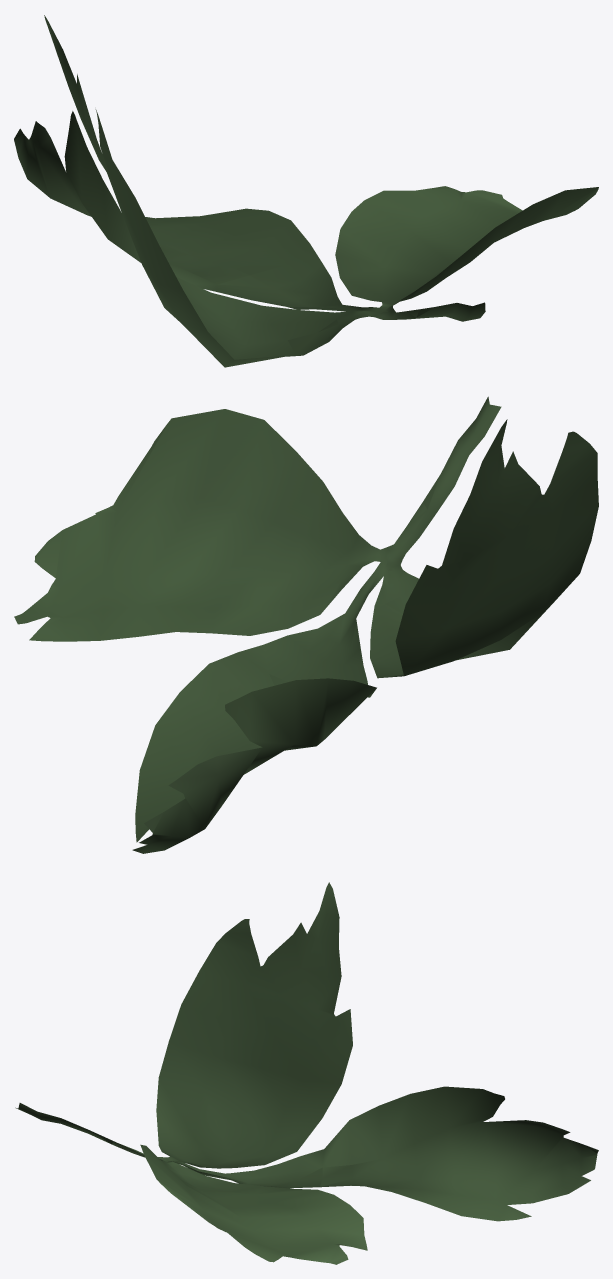
Rendered from trees-leaves-leaf-cluster_v8.glb.
3 views of the same model, one above another, from view 1: azimuth 30°, elevation 25°; view 2: azimuth 150°, elevation 25°; view 3: azimuth 270°, elevation 25° (orthographic). The views are drawn at different scales.
Visible parts, largest first — view 1: Leaf Cluster_v8; view 2: Leaf Cluster_v8; view 3: Leaf Cluster_v8.
Part boxes in pixels (<box>): Leaf Cluster_v8: <box>14,15,598,367</box>; Leaf Cluster_v8: <box>14,396,598,853</box>; Leaf Cluster_v8: <box>15,882,598,1264</box>.
Size of the model in its own units: 0.1079 by 0.0731 by 0.15.
